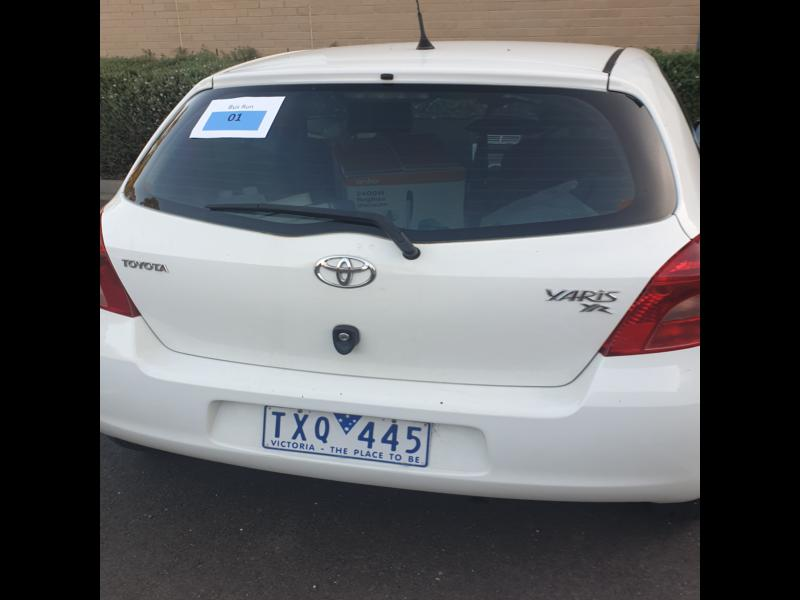BusRun: (204, 111, 266, 132)
PlateNo: (260, 402, 433, 467)
